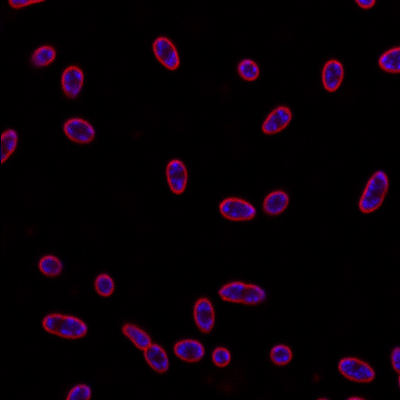Mecillinam: (358, 168, 391, 214), (40, 311, 88, 340), (337, 356, 375, 385), (260, 105, 294, 136), (217, 197, 258, 222), (61, 117, 97, 145), (191, 297, 216, 337), (152, 36, 180, 71), (170, 337, 205, 364), (166, 158, 189, 196), (320, 59, 345, 92), (261, 190, 289, 214), (268, 343, 294, 366), (93, 272, 115, 299), (236, 57, 260, 81), (210, 346, 231, 367)
Oblique: (122, 320, 169, 372), (216, 280, 269, 305), (61, 65, 86, 101), (29, 43, 57, 69), (37, 253, 66, 278)
